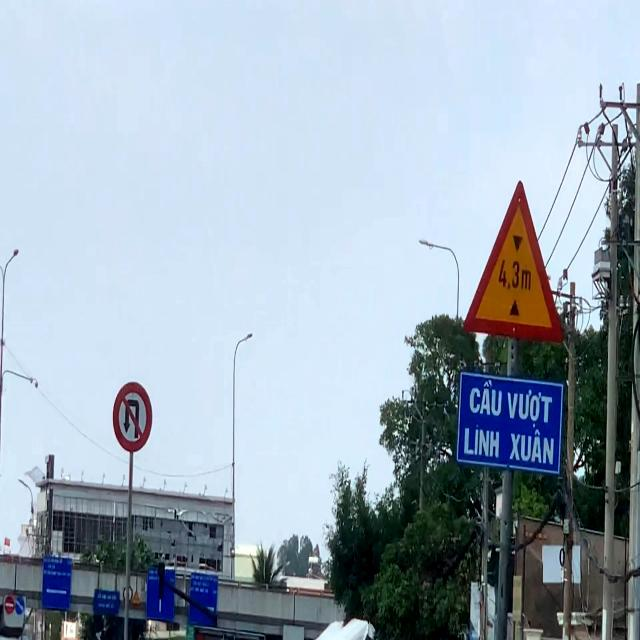Cam di nguoc chieu: (5, 596, 14, 614)
Cam quay dau xe: (112, 381, 153, 453)
Chieu cao an toan: (463, 178, 565, 346)
Vong chuong ngai vat sang phai: (15, 596, 25, 614)
